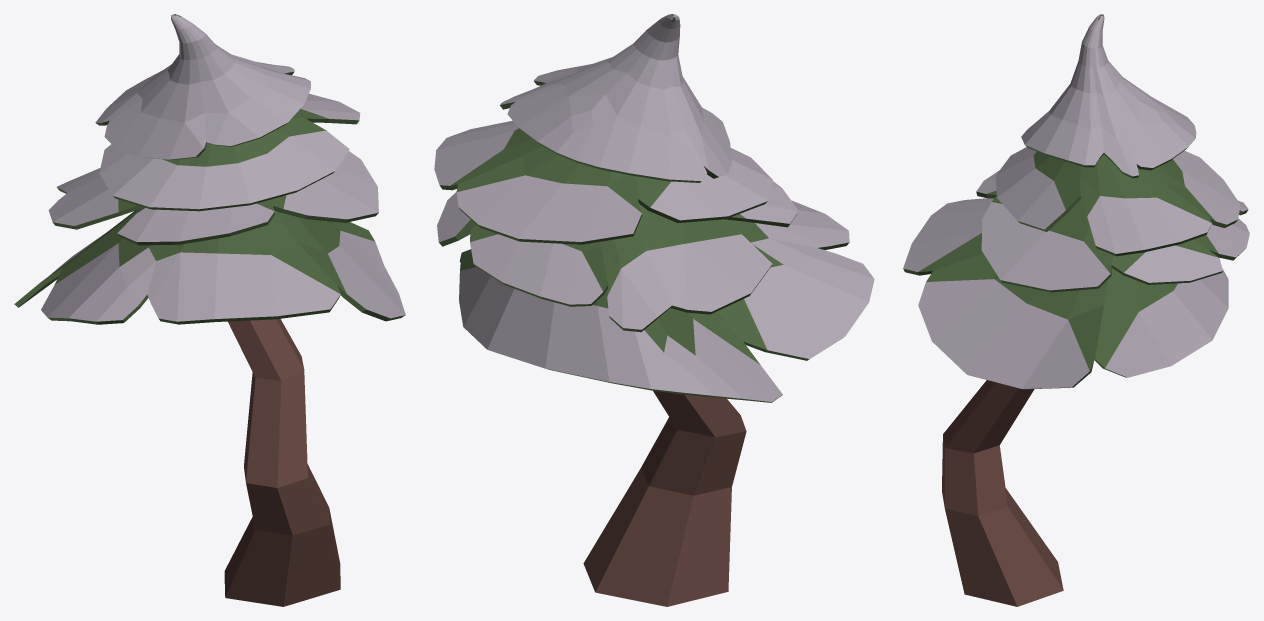
File: tree_scene.glb
3 renders of one model, left to right at view 1: azimuth 30°, elevation 25°; view 2: azimuth 150°, elevation 25°; view 3: azimuth 270°, elevation 25°, orthographic. The views are drawn at different scales.
Parts seen in each view (by area): view 1: PineTree_Snow_4; view 2: PineTree_Snow_4; view 3: PineTree_Snow_4.
Part boxes in pixels (x1=…): PineTree_Snow_4: x1=14, y1=14, x2=405, y2=606; PineTree_Snow_4: x1=434, y1=14, x2=874, y2=606; PineTree_Snow_4: x1=903, y1=14, x2=1249, y2=606.
Size of the model in its own units: 3.21 by 5.01 by 2.95.
